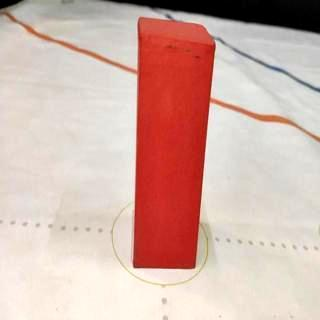redbox: (134, 14, 216, 268)
